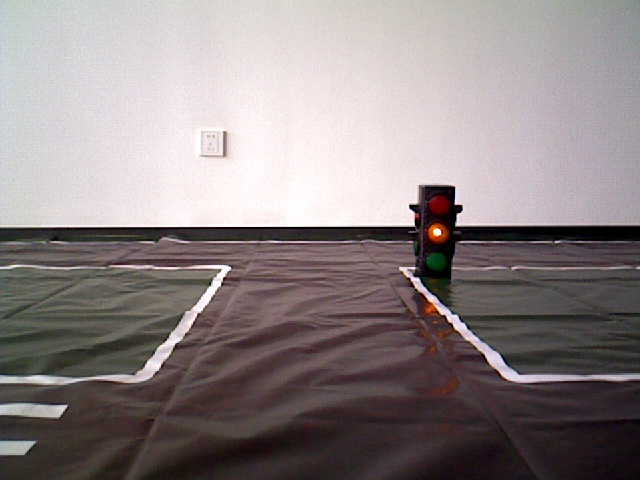yellow: (415, 183, 461, 277)
